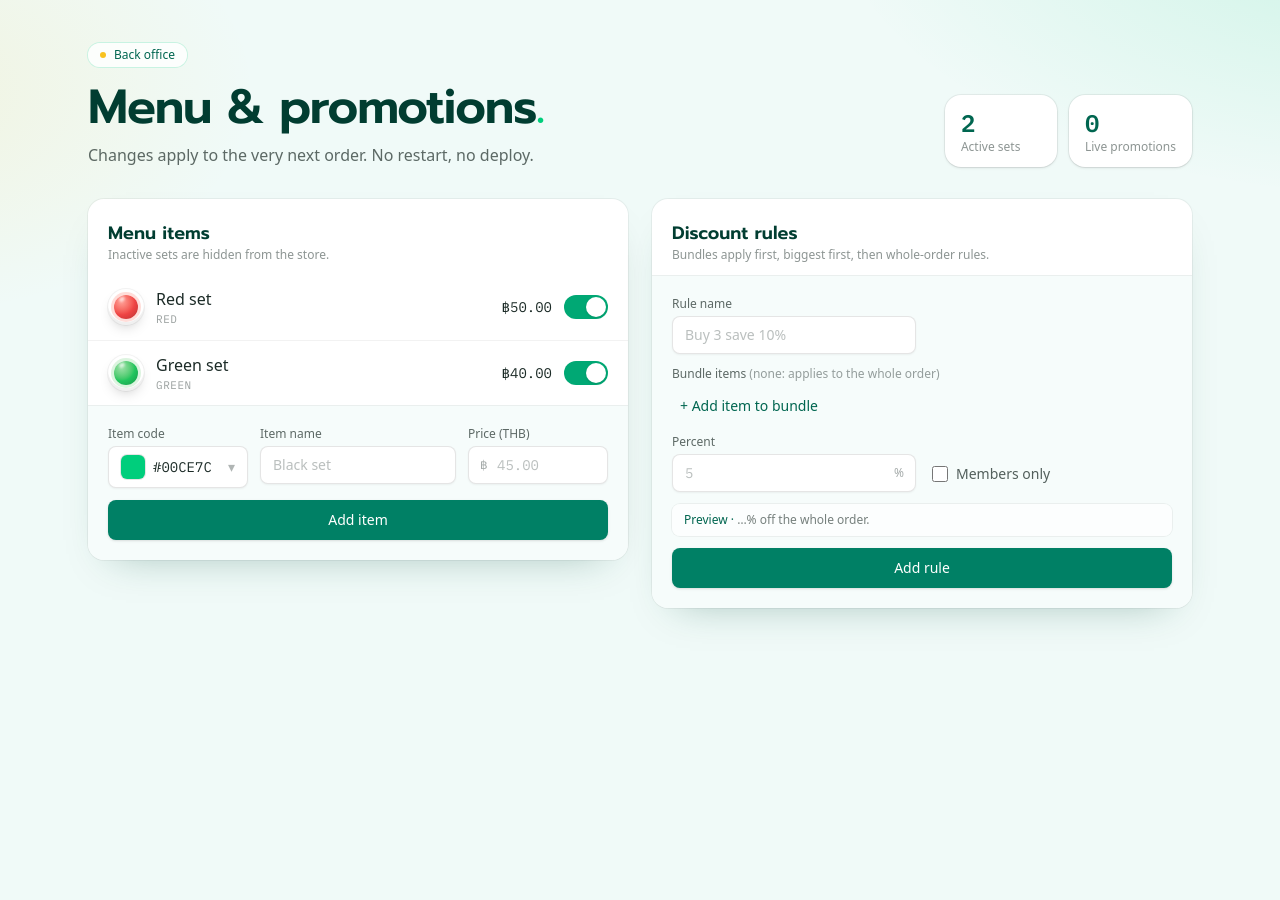
Test: Admin › takes an item off the menu with its active switch
Click the switch named "Red set active" at (586, 307), box [564,295,608,319]
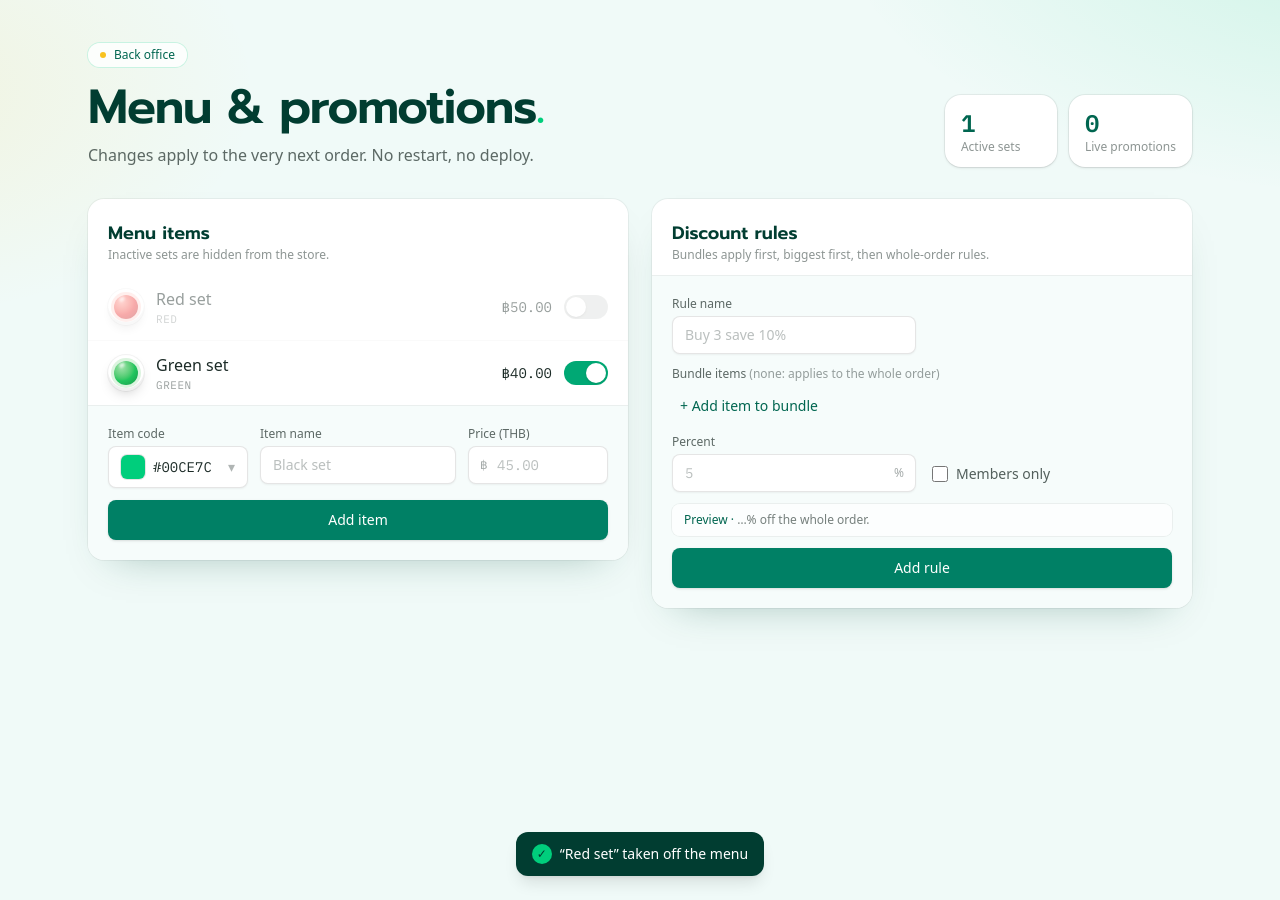
Check: the message shows "Red set", box [560,844,748,863]
